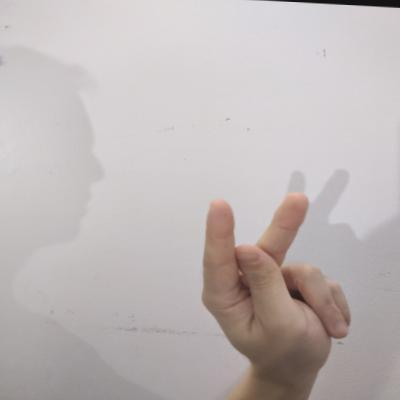hand: (192, 180, 358, 386)
